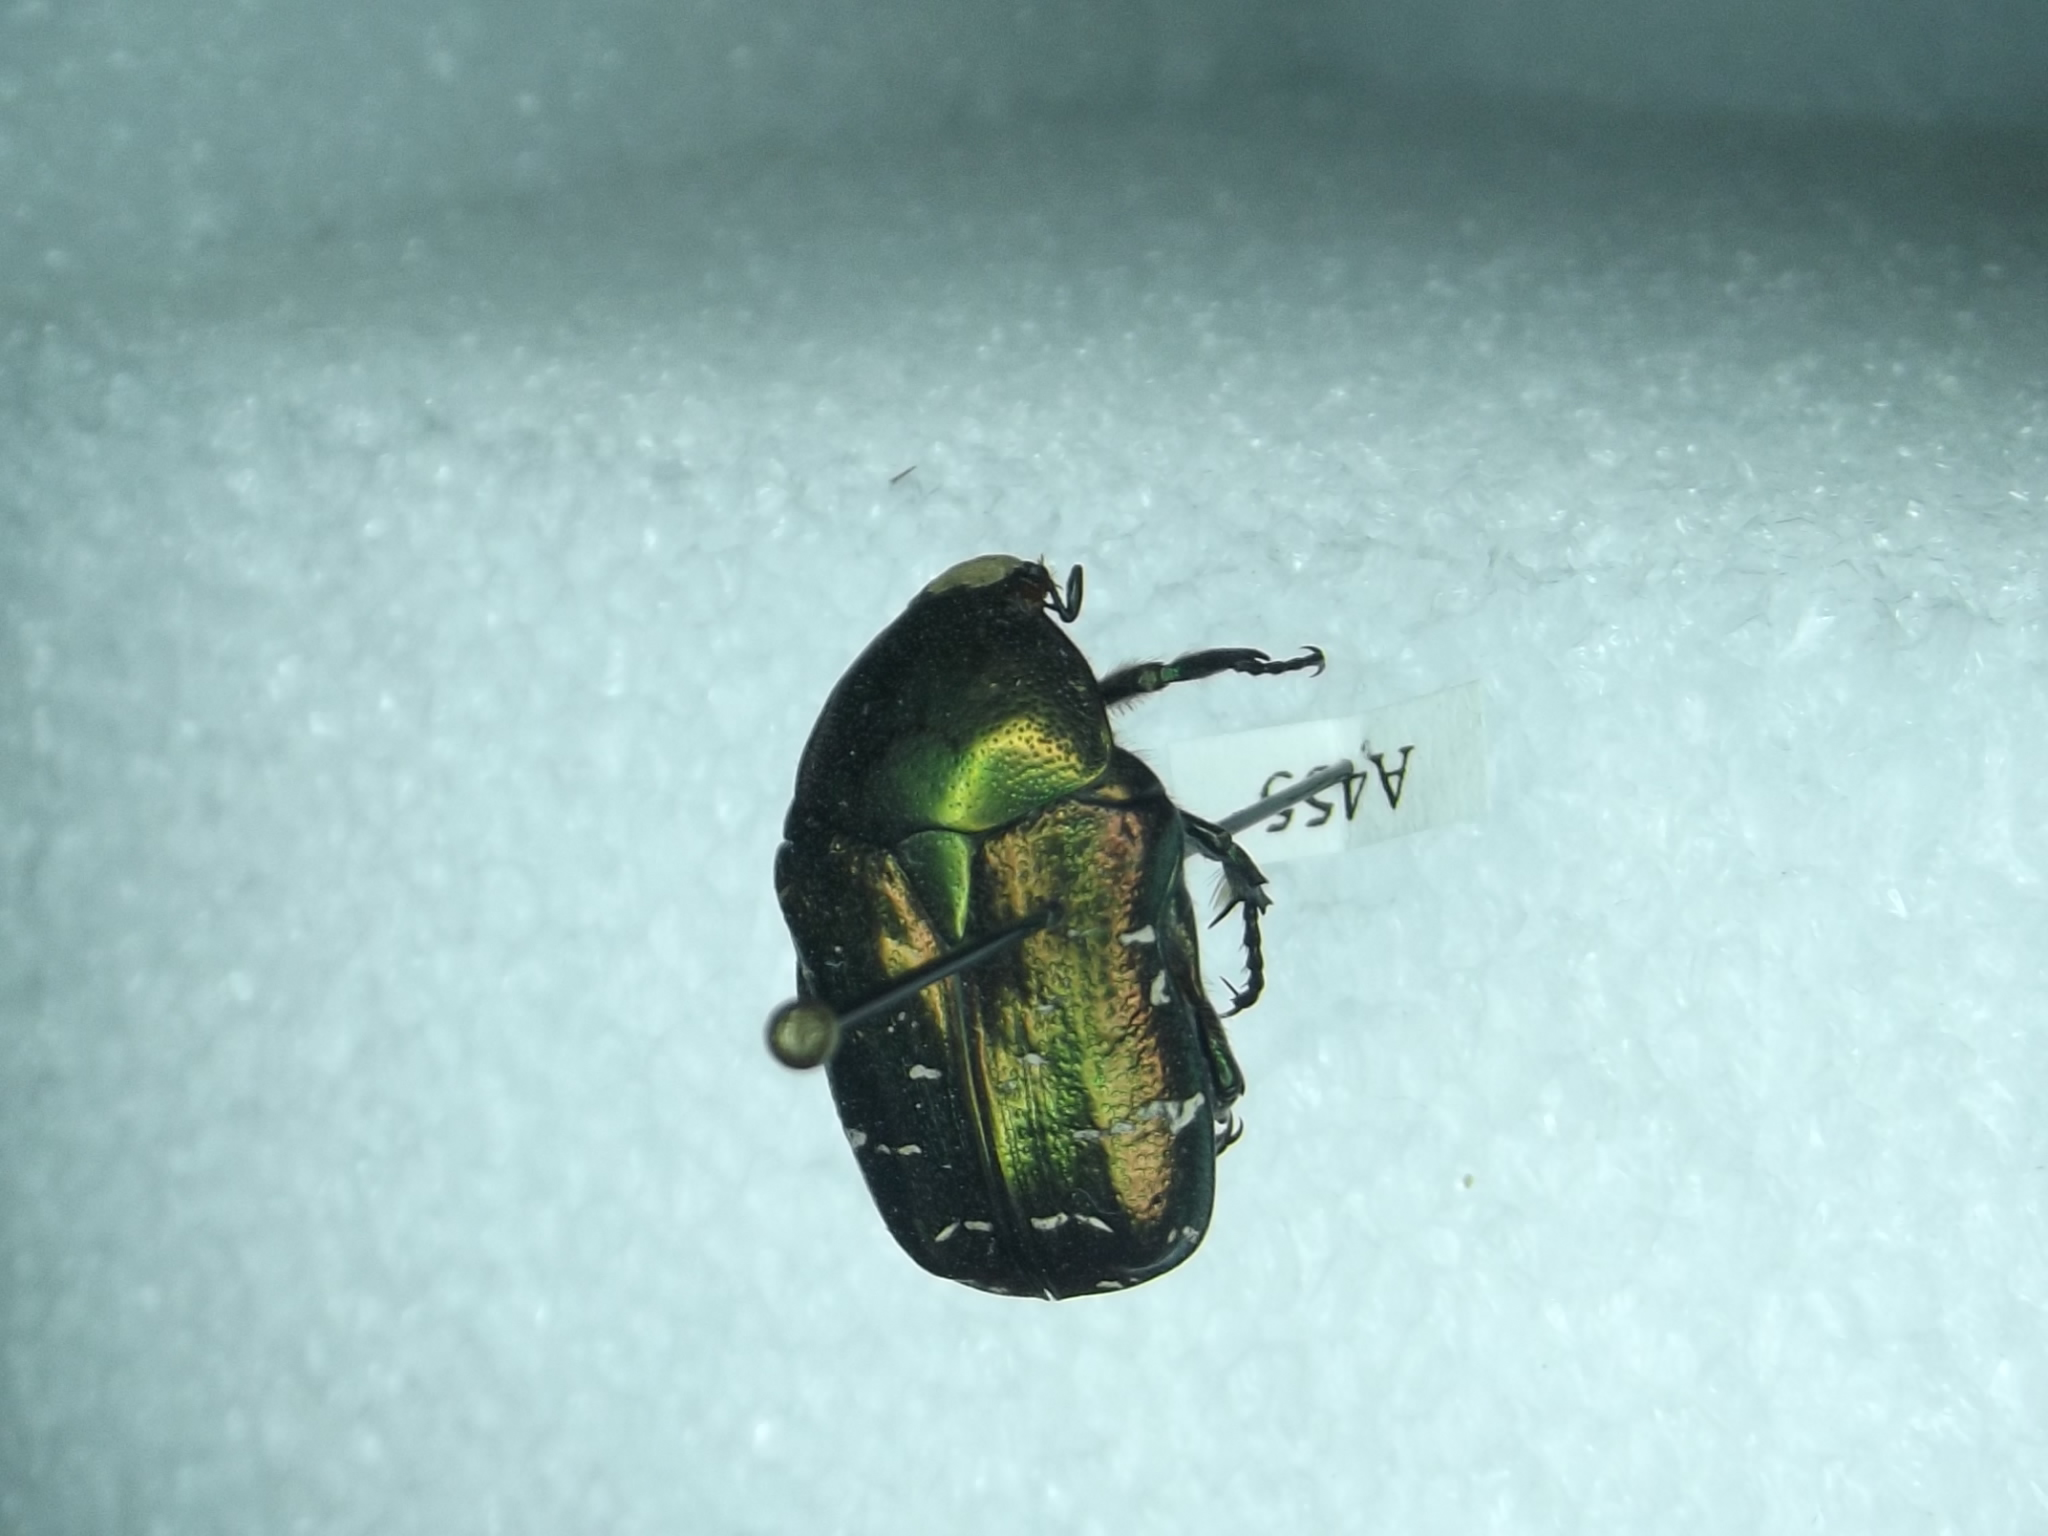Cetonia_kemali: (768, 523, 1274, 1334)
